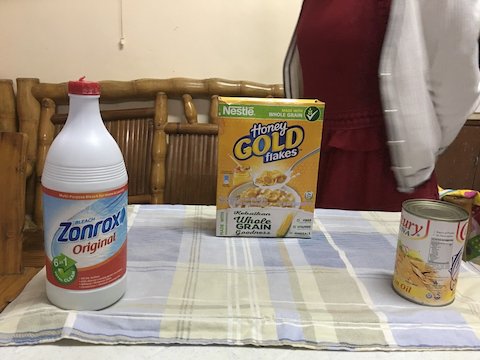bottle: (35, 80, 138, 310)
box: (209, 96, 329, 242)
can: (390, 196, 473, 308)
